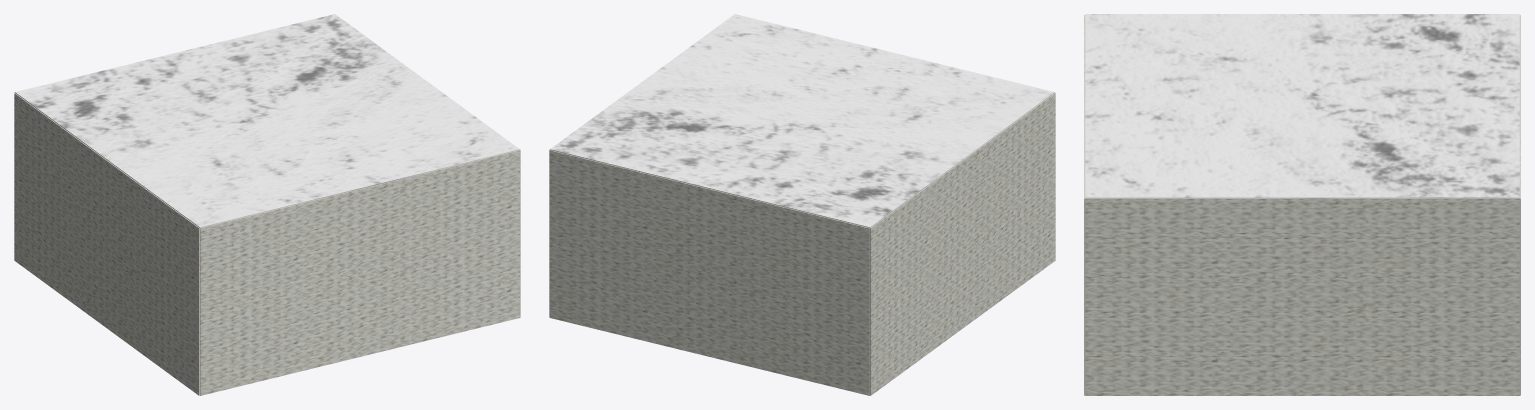
Rendered from Wall2.gltf.
The picture shows the model from 3 angles, left to right: view 1: azimuth 30°, elevation 25°; view 2: azimuth 150°, elevation 25°; view 3: azimuth 270°, elevation 25°; orthographic projection. The views are drawn at different scales.
Parts seen in each view (by area): view 1: 立方体.004, 立方体, 立方体.002; view 2: 立方体.004, 立方体.003, 立方体.002; view 3: 立方体.001, 立方体.004, 立方体, 立方体.003.
Boxes of the visible parts, x1,y1,x2,y2 form: 立方体.004: (15,14,519,227); 立方体: (200,150,520,395); 立方体.002: (14,93,199,395); 立方体.004: (550,14,1054,227); 立方体.003: (549,150,869,395); 立方体.002: (870,93,1055,395); 立方体.001: (1085,198,1519,395); 立方体.004: (1085,14,1519,198); 立方体: (1084,15,1085,395); 立方体.003: (1519,15,1520,395).
Bounding box in the file's own units: 40.2 × 20.1 × 40.2.
Materials: 2 (2 with a texture image).
